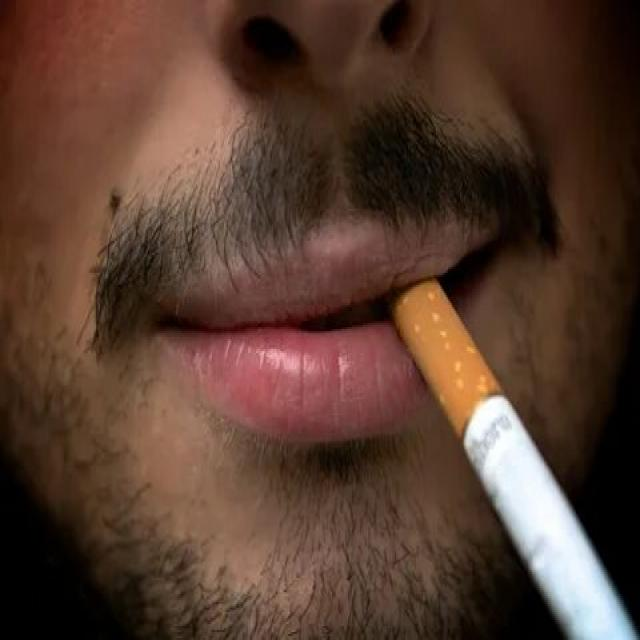cigarette: (378, 253, 640, 640)
